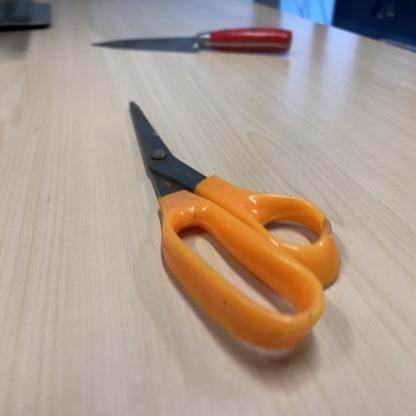Knife: (89, 25, 295, 57)
scissors: (127, 100, 342, 351)
